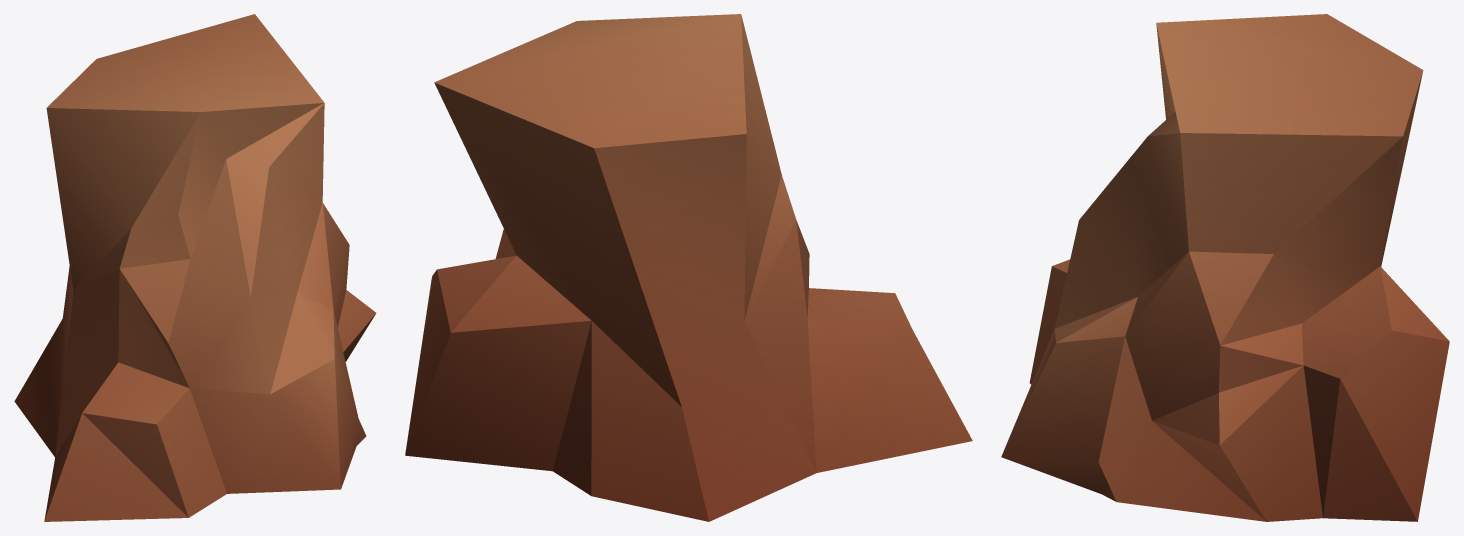
The model's file is Rock_002.fbx.
3 renders of one model, left to right at view 1: azimuth 30°, elevation 25°; view 2: azimuth 150°, elevation 25°; view 3: azimuth 270°, elevation 25°, orthographic. The views are drawn at different scales.
Visible parts, largest first — view 1: ROCK-MID; view 2: ROCK-MID; view 3: ROCK-MID.
Boxes of the visible parts, x1,y1,x2,y2 form: ROCK-MID: [14, 14, 376, 521]; ROCK-MID: [405, 14, 972, 521]; ROCK-MID: [1001, 14, 1449, 521].
Size of the model in its own units: 269 by 234 by 239.
